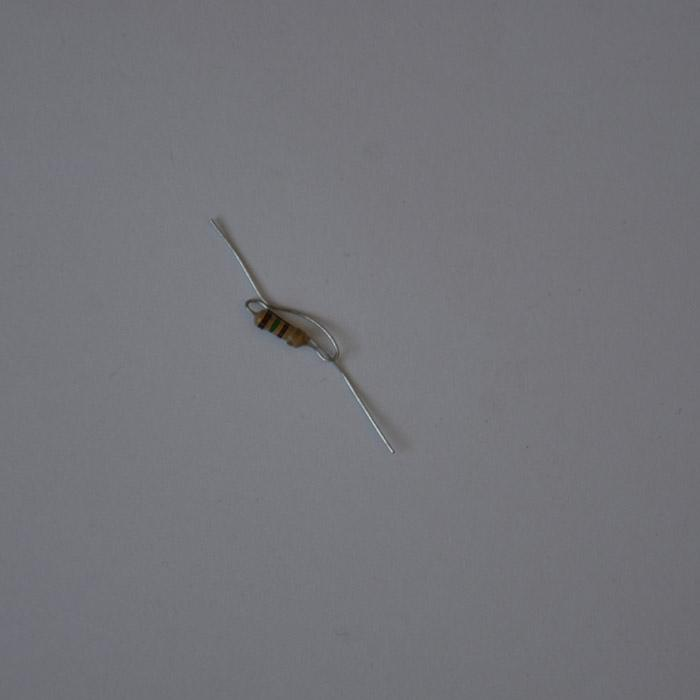resistor: (249, 305, 309, 350)
